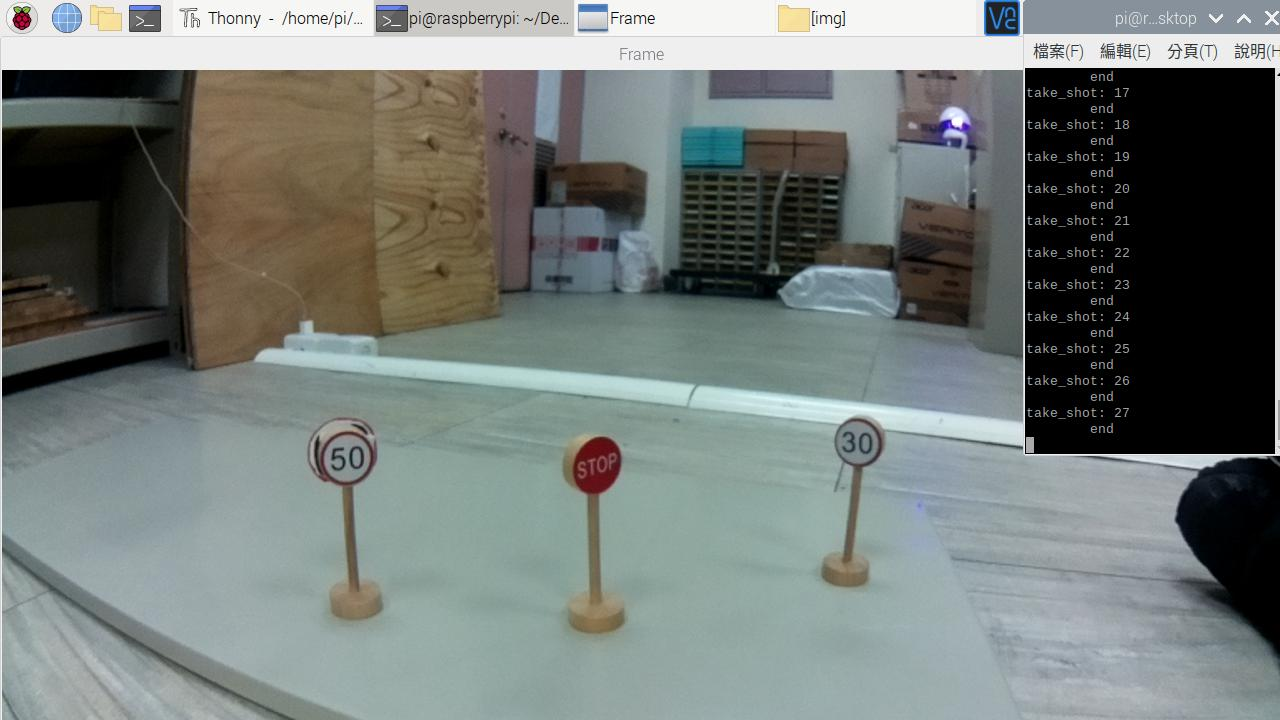Speed30: (833, 413, 883, 466)
Speed50: (310, 422, 371, 485)
Stop: (562, 431, 631, 494)
